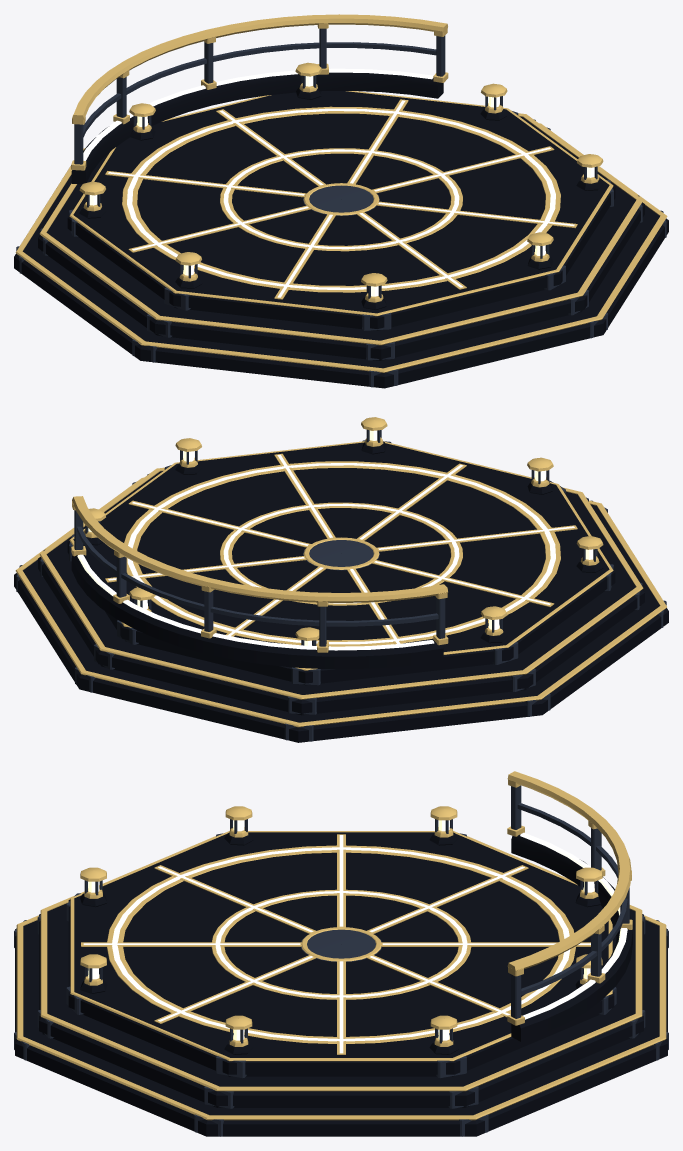
The model's file is stage_plinth.glb.
The picture shows the model from 3 angles, top to bottom: view 1: azimuth 30°, elevation 25°; view 2: azimuth 150°, elevation 25°; view 3: azimuth 270°, elevation 25°; orthographic projection. The views are drawn at different scales.
Parts seen in each view (by area): view 1: Stage_Plinth_Dais, Meridian_Channels, Diplomat_Console_Rail, Uplight_Bollards; view 2: Stage_Plinth_Dais, Meridian_Channels, Diplomat_Console_Rail, Uplight_Bollards; view 3: Stage_Plinth_Dais, Meridian_Channels, Diplomat_Console_Rail, Uplight_Bollards.
Boxes of the visible parts, <box> form: Stage_Plinth_Dais: <box>14,91,668,388</box>; Meridian_Channels: <box>105,99,577,299</box>; Diplomat_Console_Rail: <box>71,14,448,184</box>; Uplight_Bollards: <box>79,62,603,309</box>; Stage_Plinth_Dais: <box>14,440,668,742</box>; Meridian_Channels: <box>105,453,577,646</box>; Diplomat_Console_Rail: <box>71,496,448,669</box>; Uplight_Bollards: <box>84,417,603,645</box>; Stage_Plinth_Dais: <box>14,831,668,1136</box>; Meridian_Channels: <box>81,834,590,1054</box>; Diplomat_Console_Rail: <box>507,771,632,1041</box>; Uplight_Bollards: <box>80,806,602,1054</box>.
Bounding box in the file's own units: 5.08 × 1.11 × 5.08.
